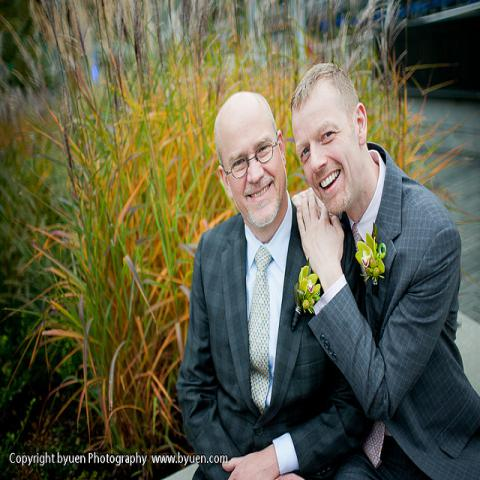car: (396, 0, 479, 96)
